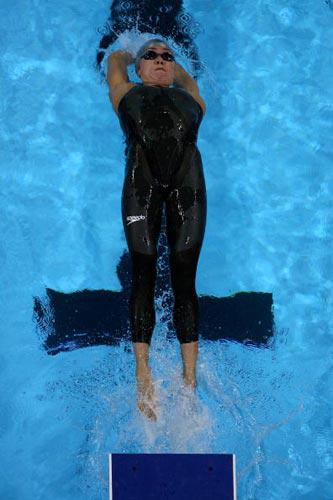human: (104, 33, 206, 427)
